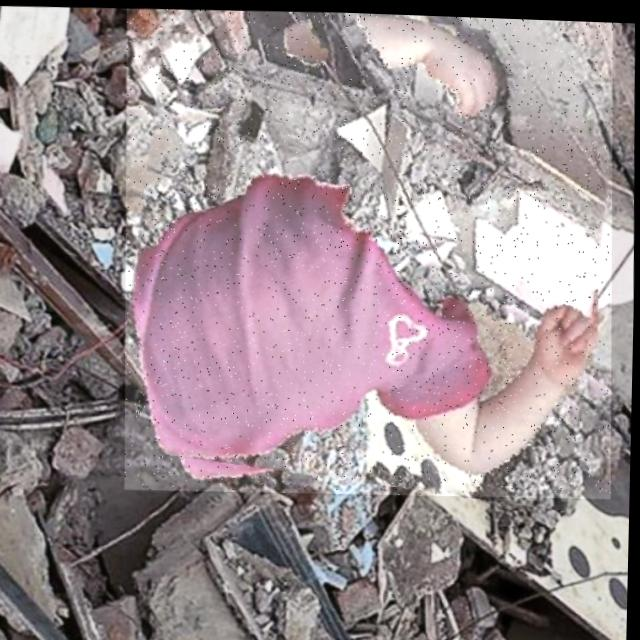Person in Rubble: (117, 4, 619, 502)
